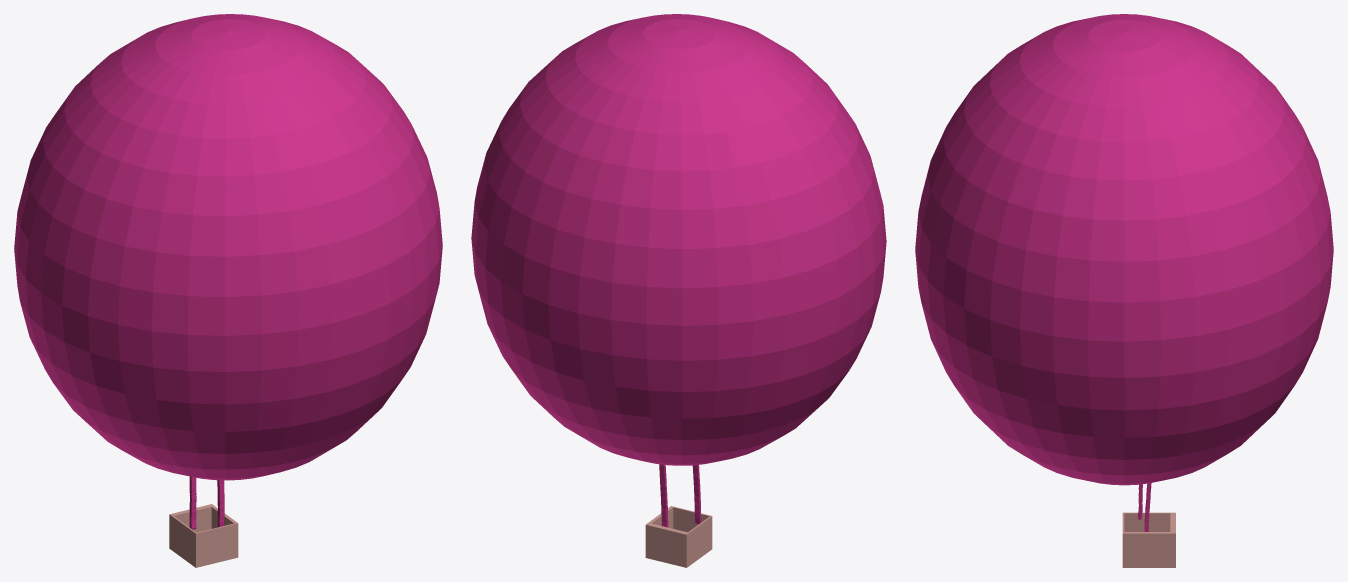
The model's file is ballon.glb.
3 views of the same model, side by side, from view 1: azimuth 30°, elevation 25°; view 2: azimuth 150°, elevation 25°; view 3: azimuth 270°, elevation 25° (orthographic). The views are drawn at different scales.
Visible parts, largest first — view 1: Mesh_Mesh_head_geo.001_lambert2SG.001; view 2: Mesh_Mesh_head_geo.001_lambert2SG.001; view 3: Mesh_Mesh_head_geo.001_lambert2SG.001.
Part boxes in pixels (box(x1,y1,x2,y2)): Mesh_Mesh_head_geo.001_lambert2SG.001: box(14, 14, 442, 567); Mesh_Mesh_head_geo.001_lambert2SG.001: box(471, 14, 886, 567); Mesh_Mesh_head_geo.001_lambert2SG.001: box(915, 14, 1333, 567).
Bounding box in the file's own units: 229 × 308 × 220.
